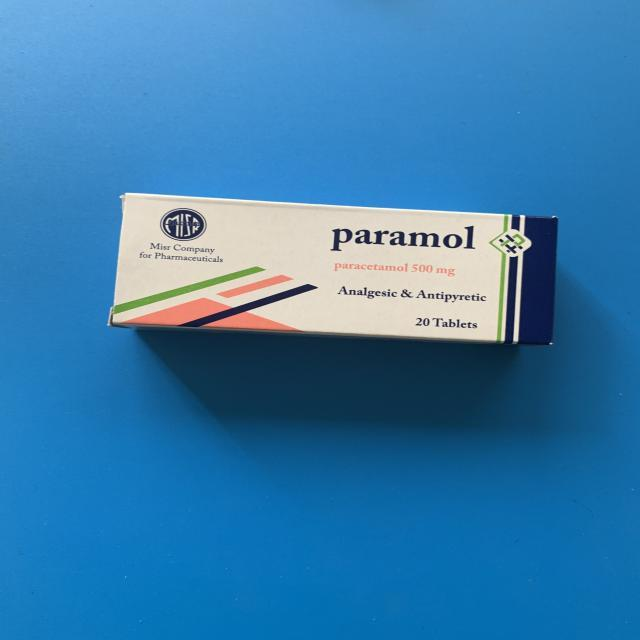Medicine Name: (319, 212, 487, 259)
